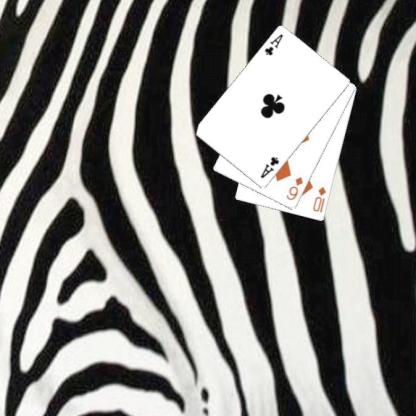10D: (311, 184, 327, 214)
6D: (284, 174, 304, 202)
AC: (262, 31, 284, 58), (258, 154, 280, 180)
